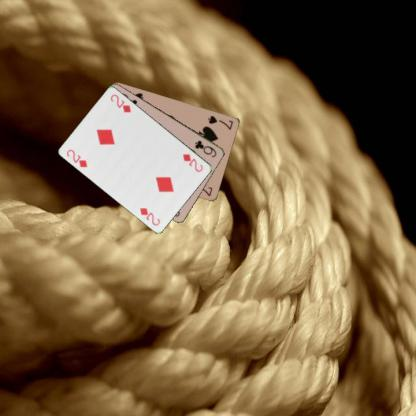2d: (180, 151, 205, 173), (64, 146, 89, 168)
6c: (192, 138, 218, 158)
7s: (206, 113, 235, 130)
